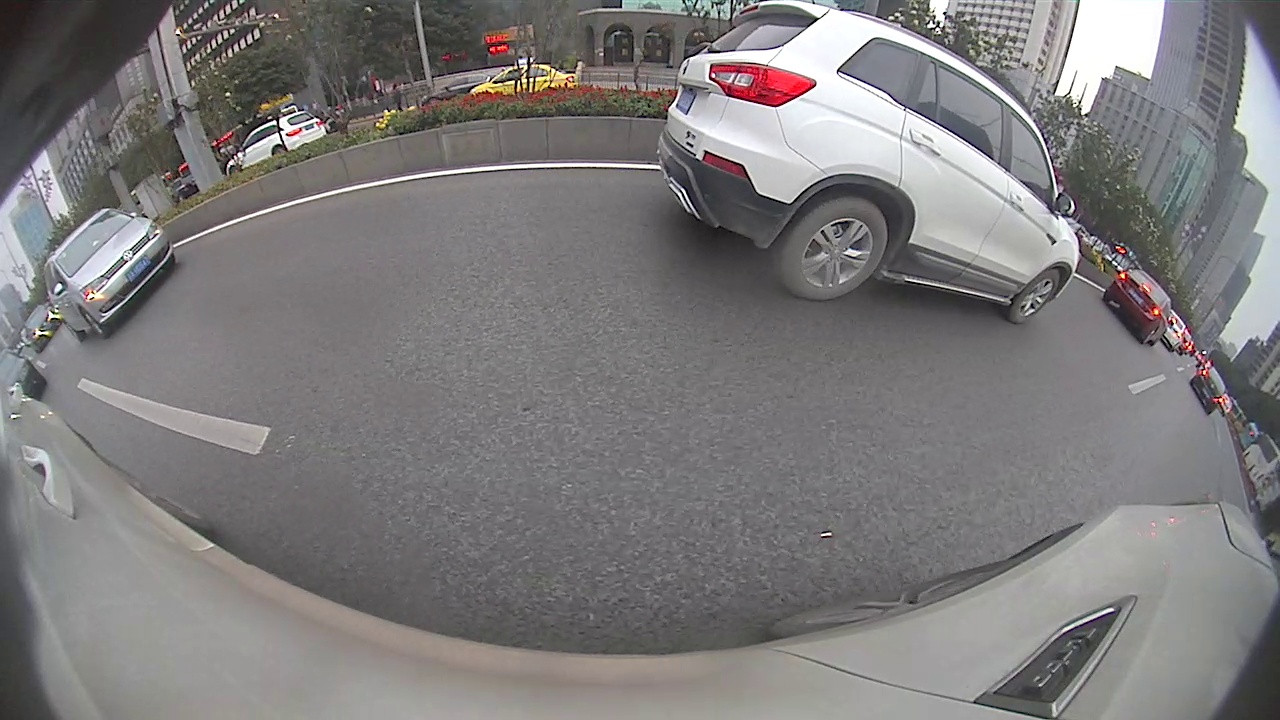bus: (651, 138, 696, 183)
car: (940, 193, 1178, 334), (1183, 316, 1278, 403), (838, 166, 968, 228), (493, 153, 569, 205), (758, 161, 823, 200), (721, 159, 769, 187), (816, 168, 852, 197)
front: (955, 222, 980, 255), (1204, 342, 1227, 374), (843, 190, 855, 209)
rear: (1082, 274, 1118, 323), (890, 202, 908, 223), (779, 182, 787, 195)
